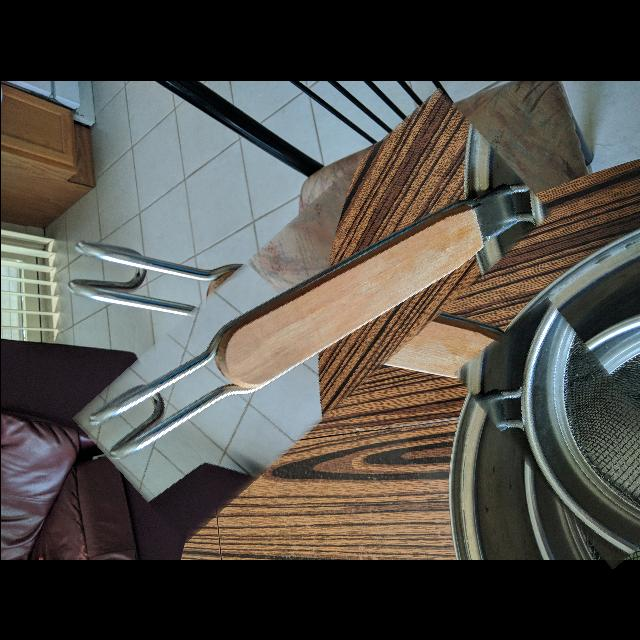Handle: (82, 180, 522, 463)
Strainer: (525, 298, 640, 552)
